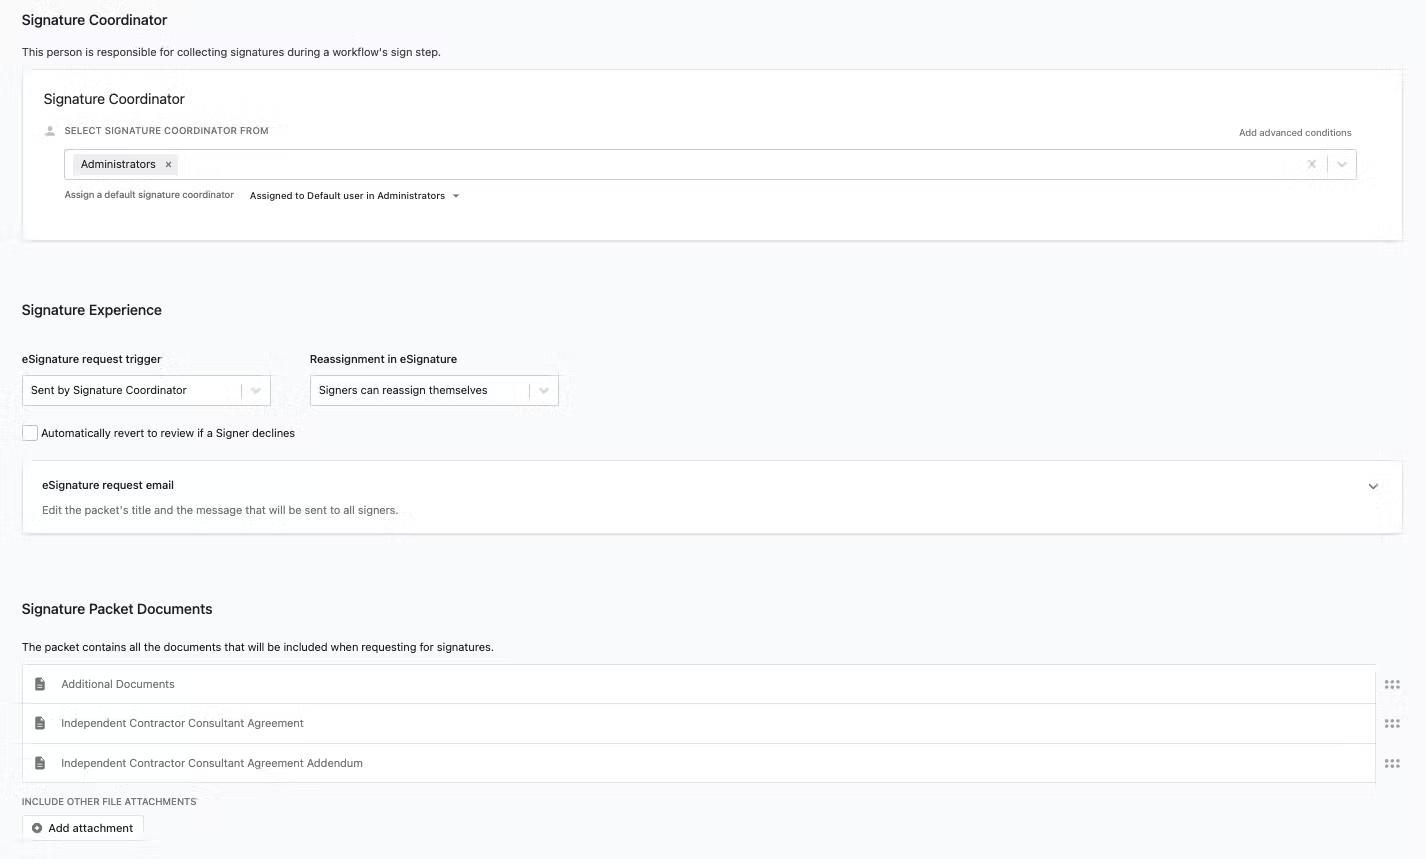button: (22, 818, 145, 842)
checkbox: (20, 423, 41, 444)
dropdown: (68, 152, 1358, 181), (309, 374, 561, 409), (23, 375, 272, 408)
icon: (1382, 674, 1404, 698), (1379, 757, 1405, 777), (1383, 713, 1405, 734), (1368, 479, 1383, 497)
label: (60, 752, 372, 777), (22, 594, 230, 629), (60, 714, 308, 733), (19, 7, 172, 33), (23, 300, 173, 324), (42, 87, 189, 110), (42, 428, 300, 441), (39, 475, 184, 498), (310, 348, 465, 369), (22, 352, 167, 370), (63, 675, 180, 694), (1238, 128, 1355, 144)
